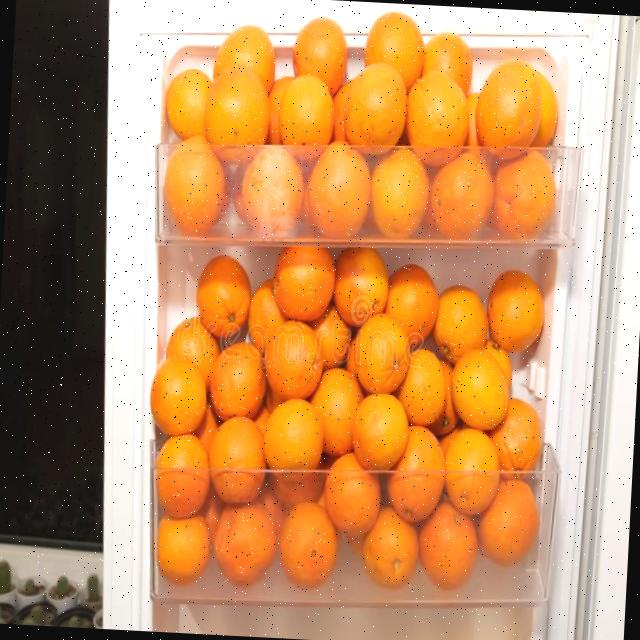orange: (474, 55, 546, 158), (342, 59, 411, 157), (414, 497, 482, 592), (206, 66, 272, 158), (277, 497, 342, 590), (484, 265, 550, 351), (193, 251, 255, 341), (147, 352, 210, 436), (264, 393, 326, 477), (352, 389, 408, 476)
